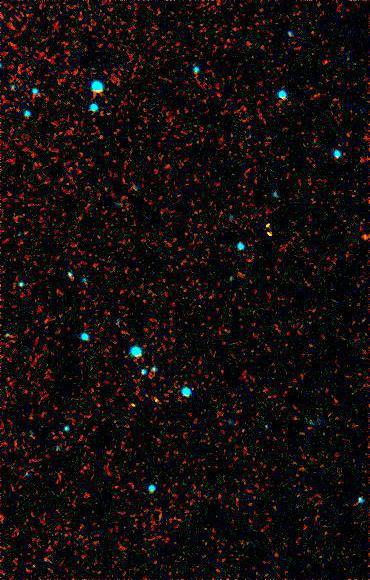star: (348, 226, 370, 256)
